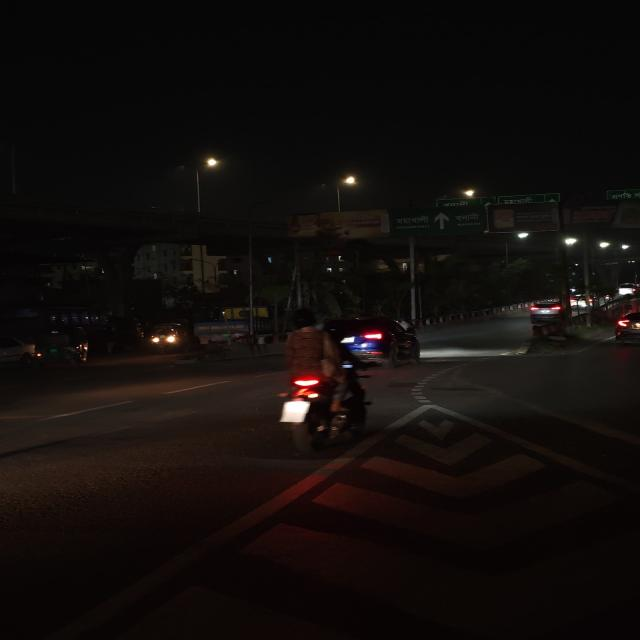car: (610, 309, 640, 346), (528, 300, 572, 322), (617, 282, 638, 296)
cng: (349, 314, 425, 367), (141, 318, 183, 358)
motorcycle: (264, 312, 380, 454)
